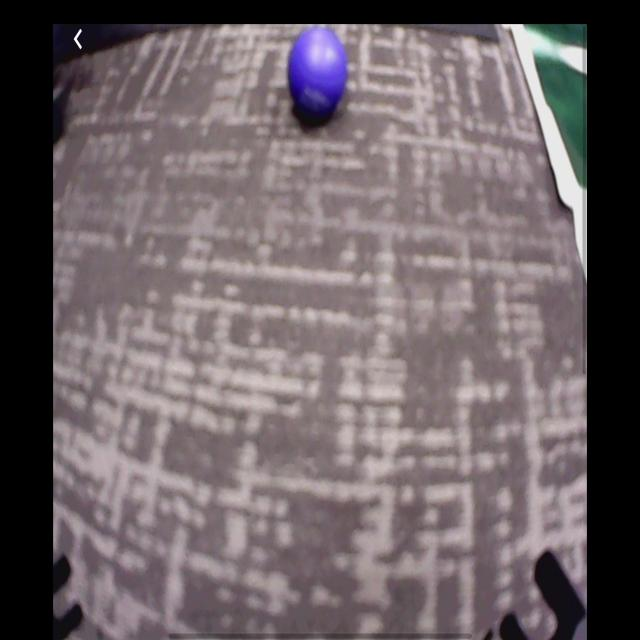ball: (287, 26, 348, 118)
